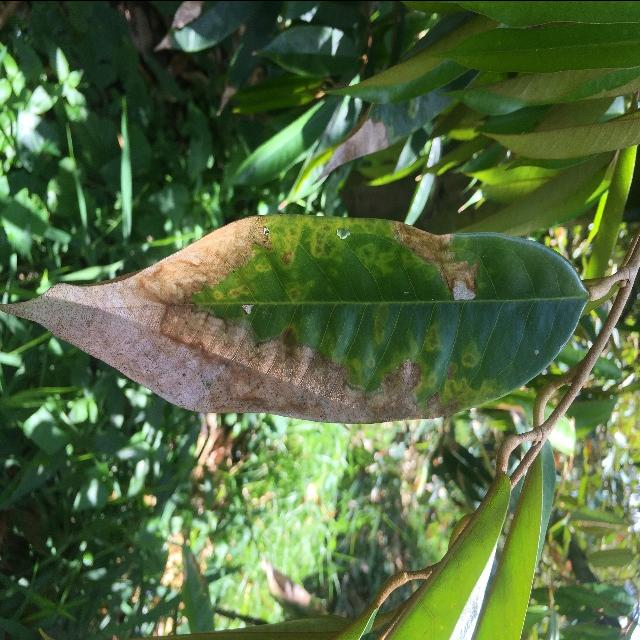Leaf Blight: (0, 206, 599, 427)
